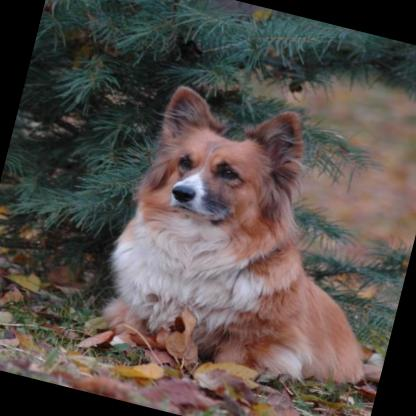Pembroke: (79, 72, 416, 408)
